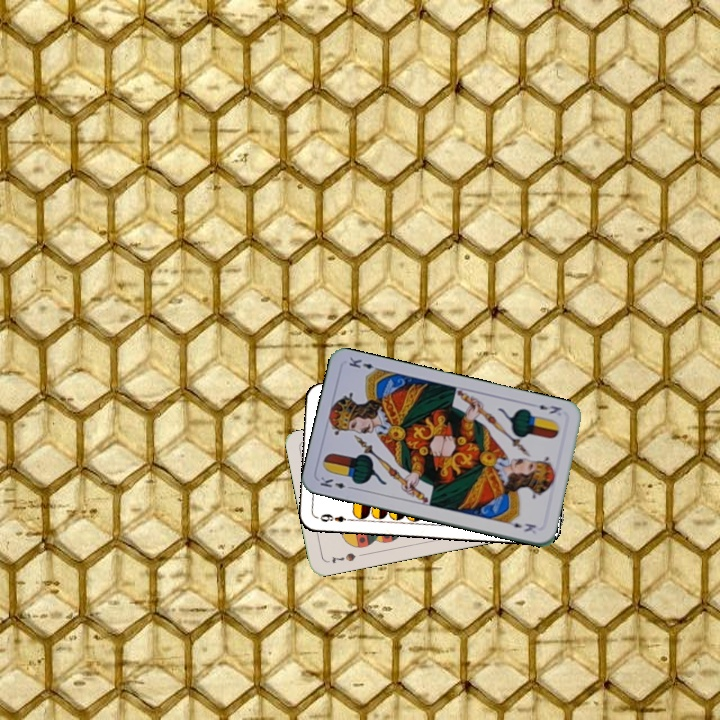E9: (316, 510, 355, 525)
EK: (316, 473, 356, 492), (535, 401, 564, 416)
S7: (328, 549, 358, 566)
